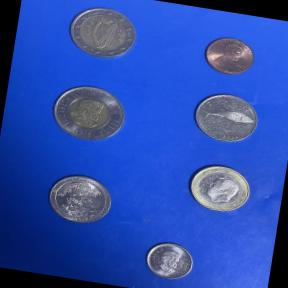1 Euro-B: (180, 156, 258, 222)
2 Euro-B: (61, 0, 145, 65)
Canada-10cent-B: (136, 234, 200, 286)
Canada-2Dollar-B: (43, 76, 134, 152)
Croatia-2Kune-B: (186, 86, 266, 150)
US-1cent-B: (198, 30, 260, 82)
US-25cent-B: (40, 166, 120, 232)
